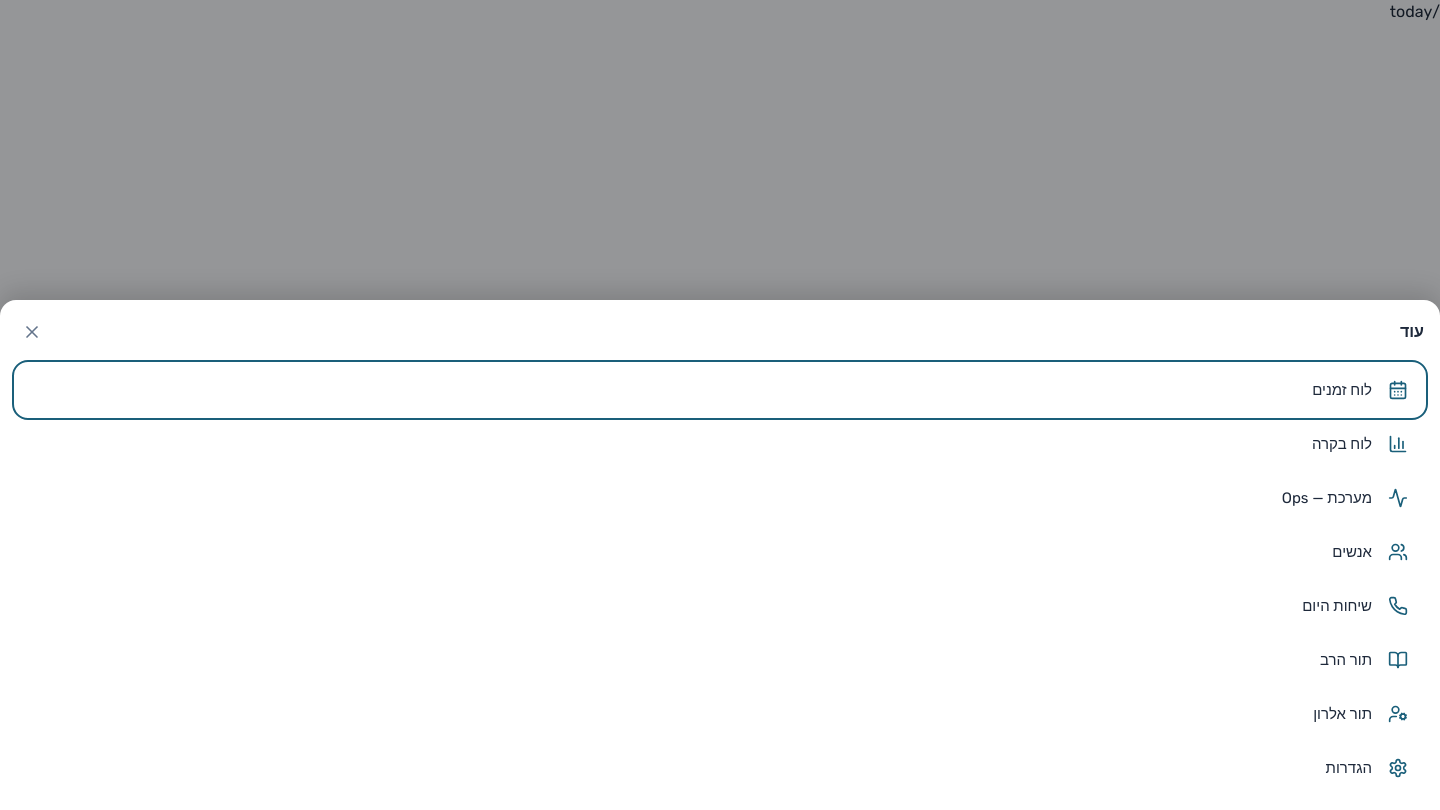
Scenario: MoreSheet › clicking an item navigates and closes the sheet
The image size is (1440, 810).
Click the button "הגדרות".
click(1349, 768)  # box x1=16 y1=742 x2=1424 y2=794
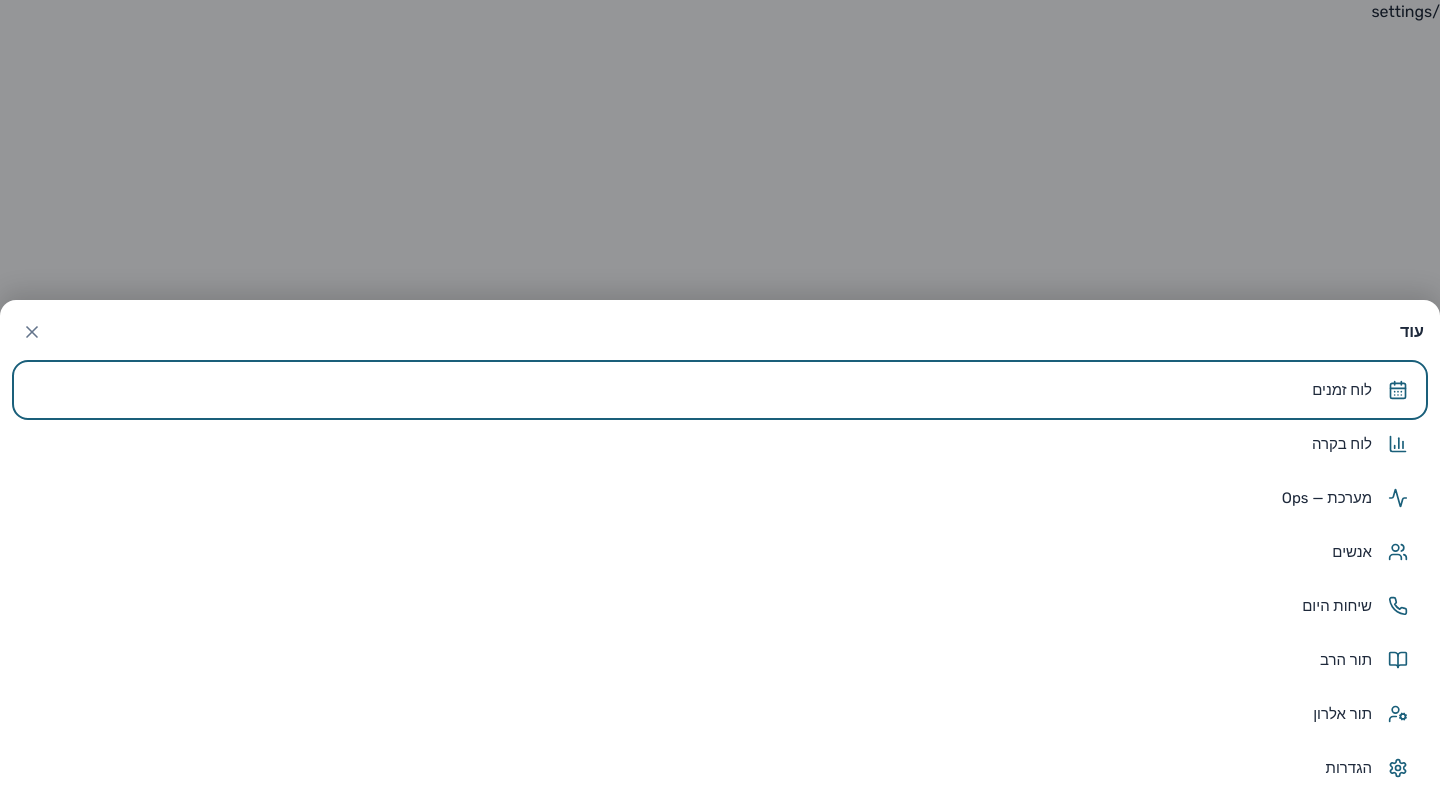
Expected: the text with test id "probe" reads "/settings", x1=1371 y1=2 x2=1439 y2=21
